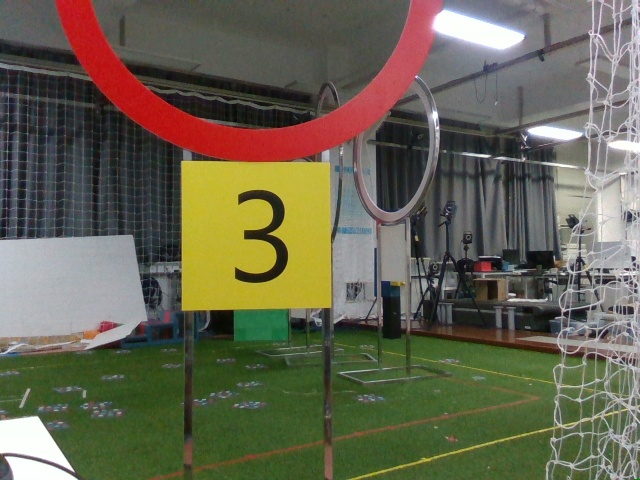target: (178, 167, 332, 310)
